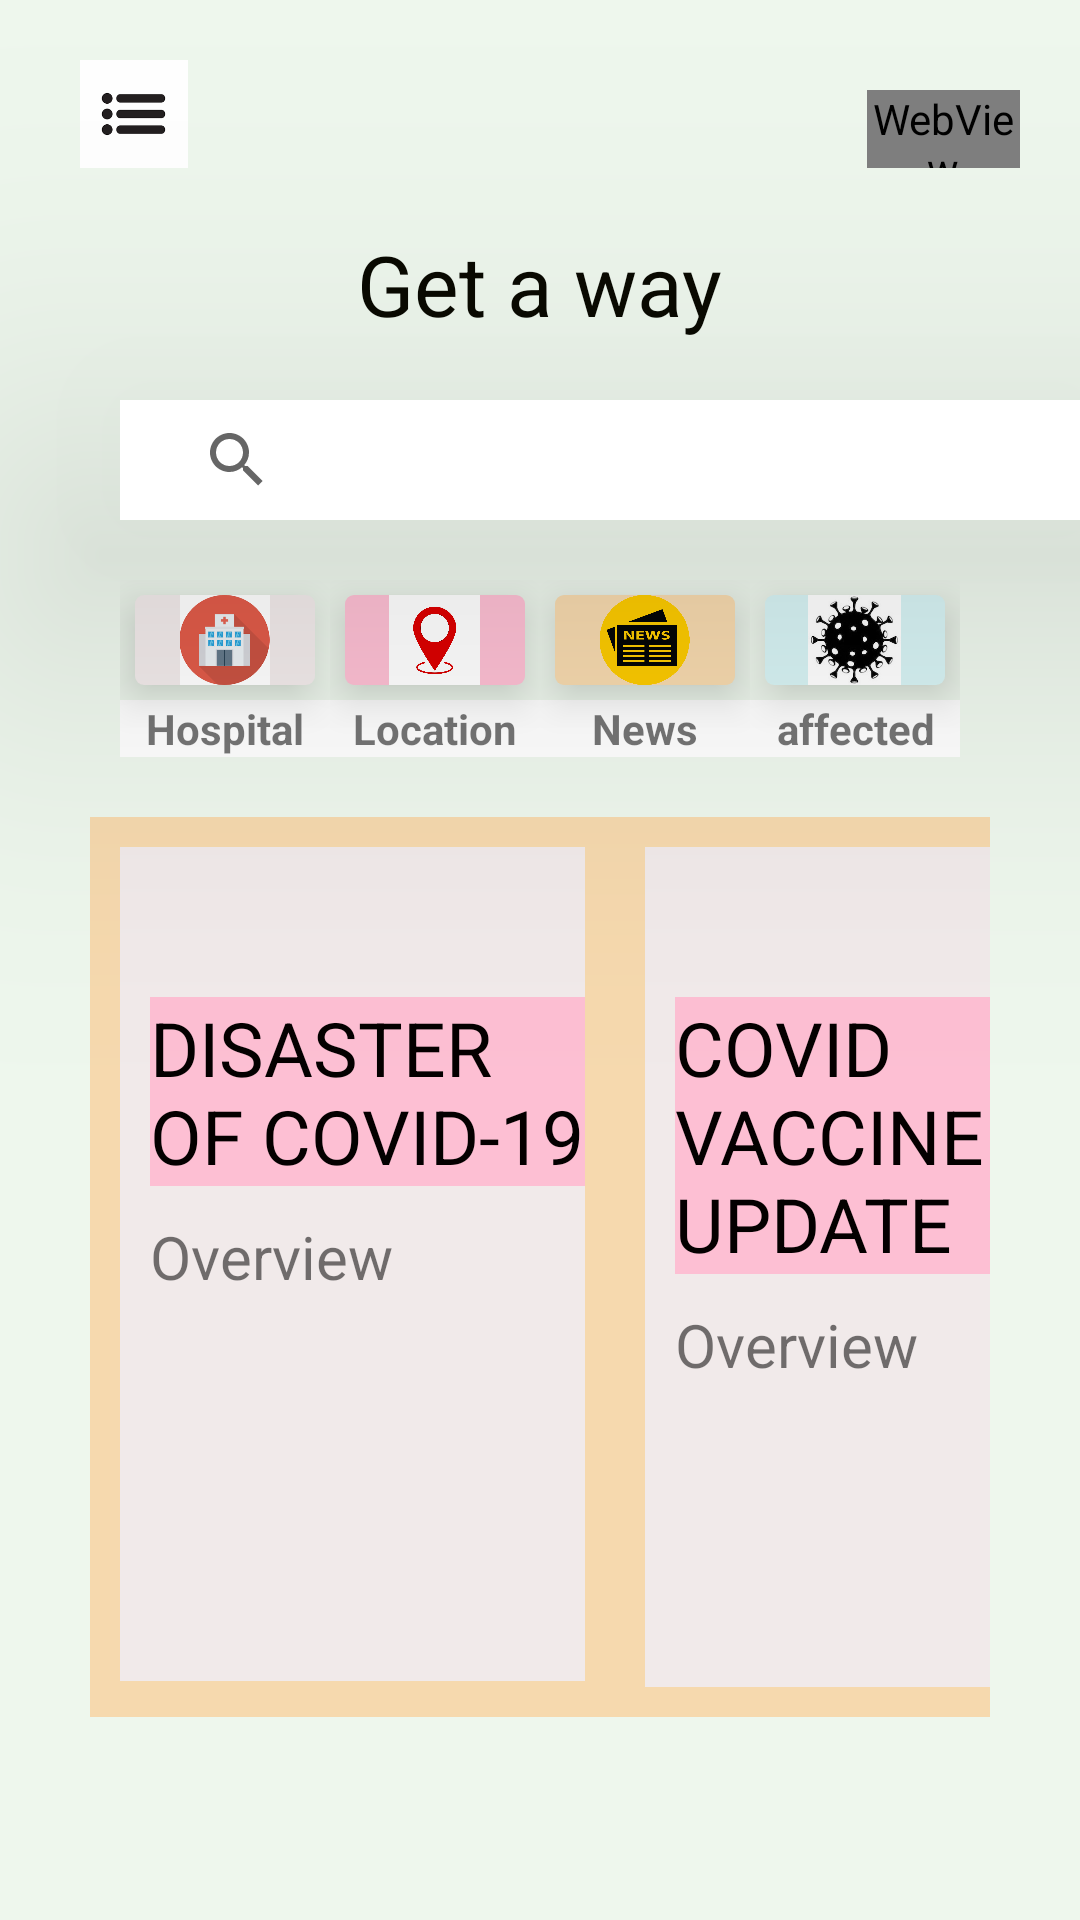

Named icons in this screenshot (1080px×1920px) and their centers, (x=x, y=y):
menu: (x=133, y=114)
